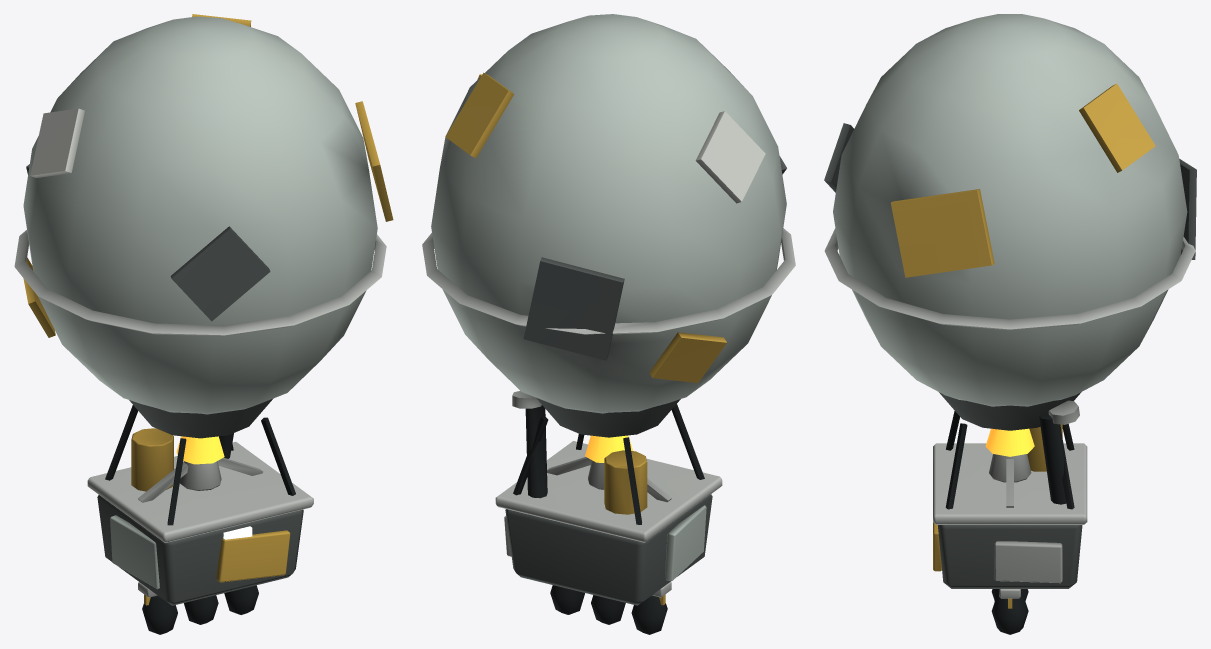
The model's file is balloon.glb.
3 renders of one model, left to right at view 1: azimuth 30°, elevation 25°; view 2: azimuth 150°, elevation 25°; view 3: azimuth 270°, elevation 25°, orthographic.
Visible parts, largest first — view 1: Envelope, Gondola_rim, Gondola, Envelope_band, Patches.001, Side_plates.001, Skirt, Patches.002, Bombs, Side_plates, Fuel_drum, Patches (+4 smaller); view 2: Envelope, Gondola, Gondola_rim, Patches.001, Patches, Envelope_band, Patches.002, Skirt, Bombs, Fuel_drum, Side_plates, Rigging (+3 smaller); view 3: Envelope, Patches, Gondola_rim, Gondola, Envelope_band, Side_plates.002, Skirt, Patches.001, Exhaust_stack, Rigging, Bombs, Flame (+3 smaller).
Boxes of the visible parts, left/top/right/bottom form: Envelope: left=23, top=16, right=377, bottom=414; Gondola_rim: left=87, top=441, right=313, bottom=542; Gondola: left=97, top=495, right=303, bottom=605; Envelope_band: left=14, top=230, right=386, bottom=336; Patches.001: left=26, top=164, right=270, bottom=321; Side_plates.001: left=216, top=530, right=290, bottom=582; Skirt: left=129, top=398, right=273, bottom=438; Patches.002: left=30, top=108, right=84, bottom=177; Bombs: left=142, top=585, right=258, bottom=634; Side_plates: left=110, top=515, right=159, bottom=589; Fuel_drum: left=131, top=428, right=173, bottom=491; Patches: left=23, top=14, right=393, bottom=337; Envelope: left=431, top=14, right=786, bottom=413; Gondola: left=505, top=494, right=712, bottom=605; Gondola_rim: left=495, top=441, right=722, bottom=542; Patches.001: left=523, top=156, right=786, bottom=360; Patches: left=445, top=72, right=726, bottom=382; Envelope_band: left=422, top=228, right=795, bottom=334; Patches.002: left=695, top=111, right=765, bottom=203; Skirt: left=536, top=397, right=680, bottom=437; Bombs: left=550, top=585, right=667, bottom=634; Fuel_drum: left=604, top=450, right=647, bottom=514; Side_plates: left=664, top=505, right=706, bottom=581; Rigging: left=513, top=404, right=704, bottom=524; Envelope: left=833, top=14, right=1187, bottom=406; Patches: left=890, top=83, right=1155, bottom=277; Gondola_rim: left=933, top=443, right=1087, bottom=524; Gondola: left=938, top=525, right=1082, bottom=588; Envelope_band: left=824, top=228, right=1195, bottom=330; Side_plates.002: left=994, top=541, right=1062, bottom=583; Skirt: left=939, top=392, right=1081, bottom=430; Patches.001: left=824, top=123, right=1196, bottom=259; Exhaust_stack: left=1039, top=413, right=1066, bottom=504; Rigging: left=945, top=411, right=1074, bottom=509; Bombs: left=991, top=589, right=1028, bottom=634; Flame: left=985, top=428, right=1034, bottom=456.
Bounding box in the file's own units: 2.44 × 4.21 × 2.42.
